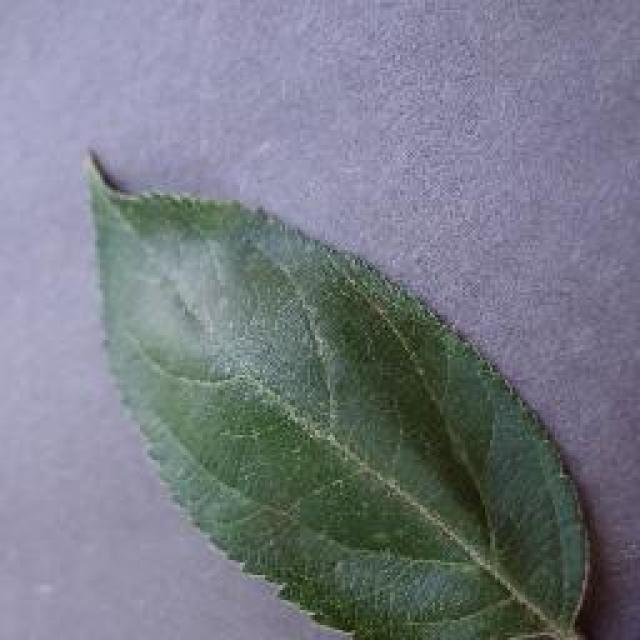apple scab disease: (77, 142, 605, 638)
